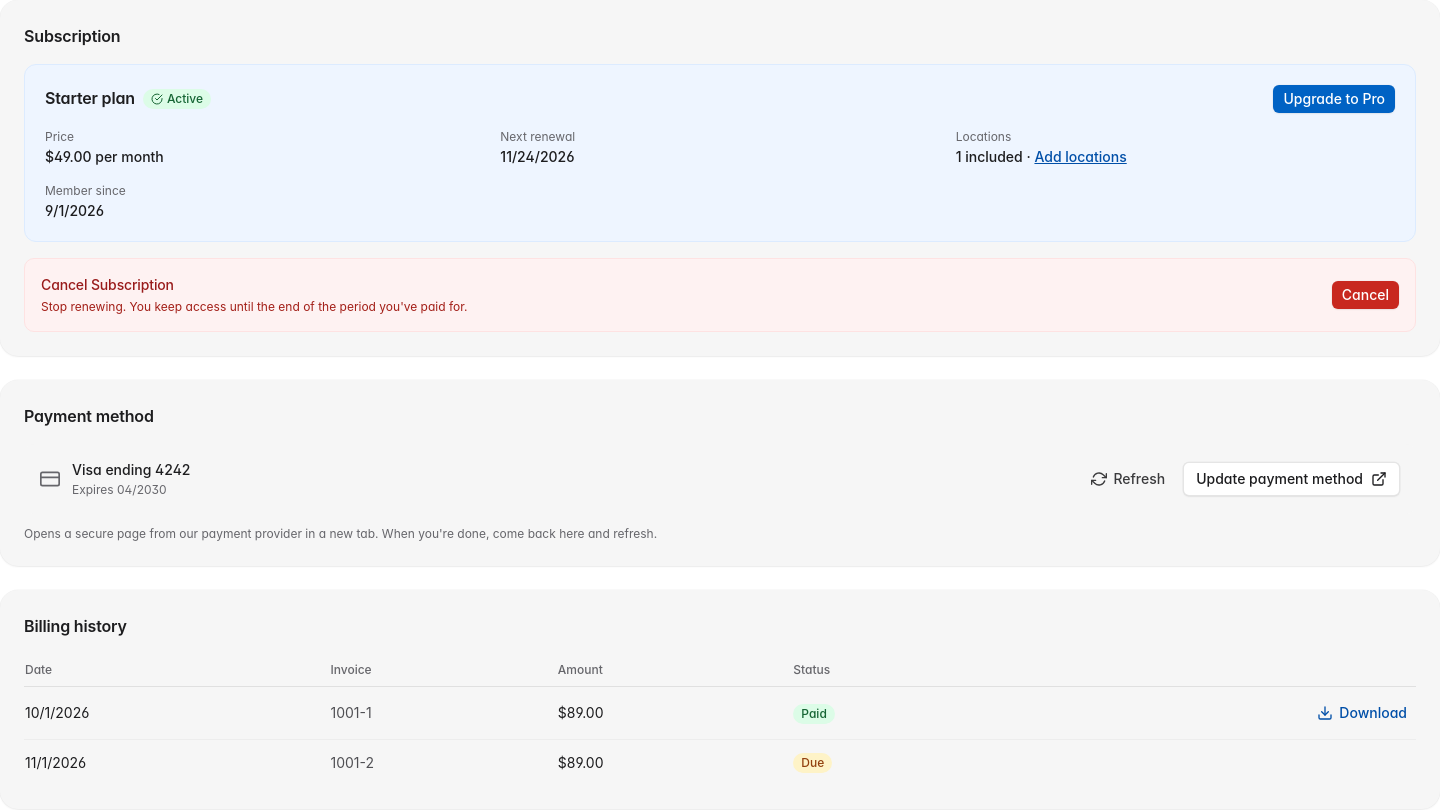
payment method › refreshes after the gym comes back from the provider's page
The image size is (1440, 810).
Expected: the text "Visa ending 4242" is shown, [72, 460, 190, 480]
Click the button "Refresh" at (1128, 479), box [1081, 465, 1175, 493]
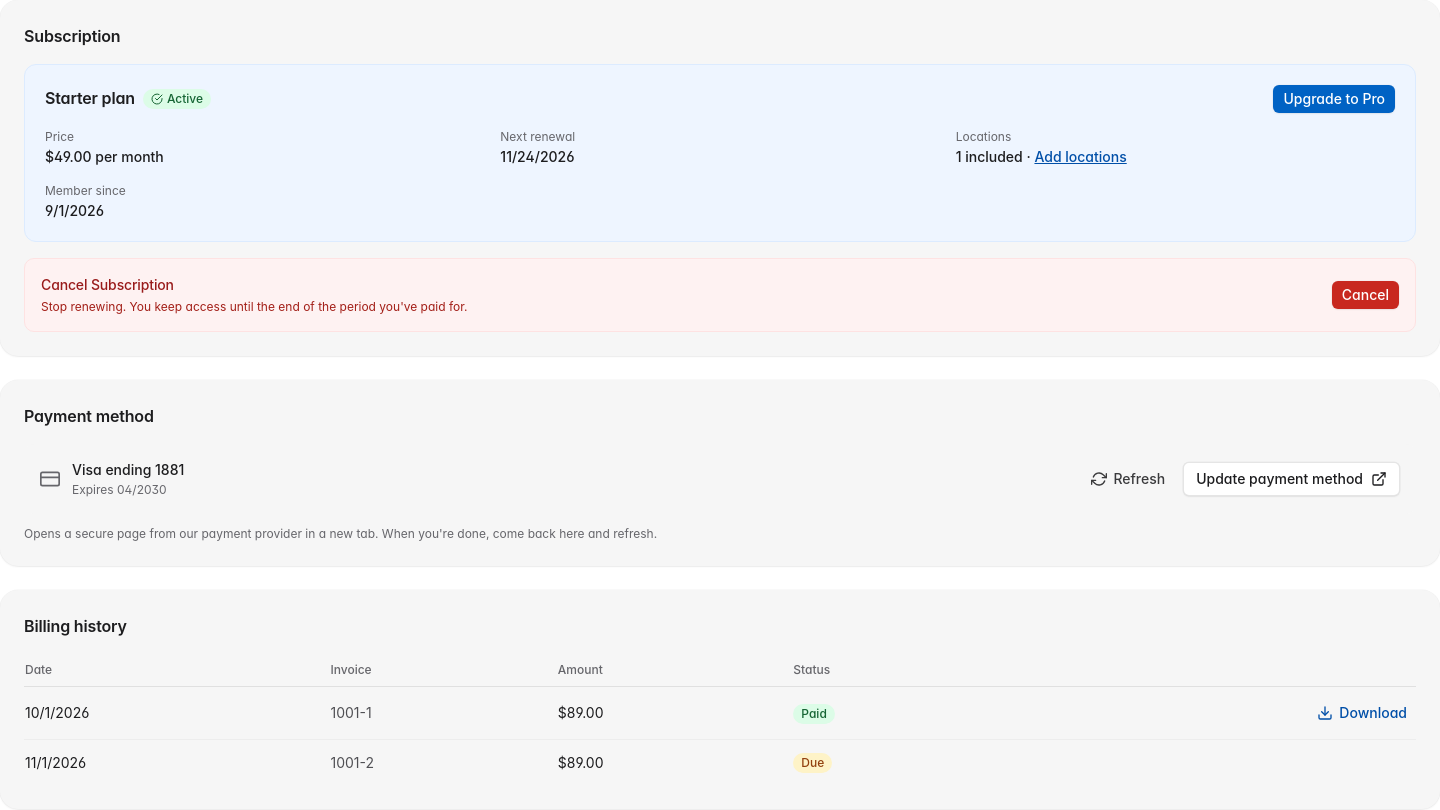
Expected: the text "Visa ending 1881" is shown, [72, 460, 184, 480]
